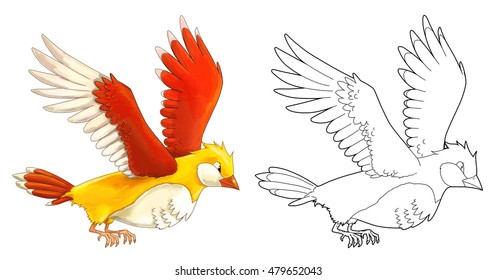bird: (253, 14, 484, 249), (11, 14, 242, 247)
